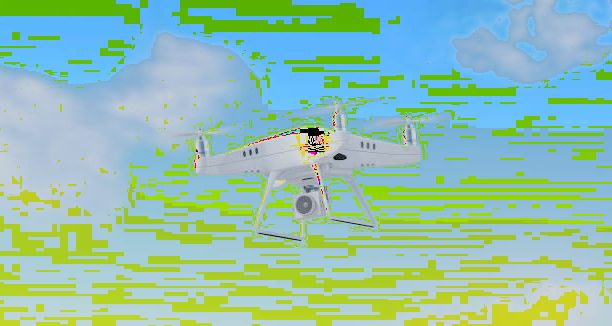Drone: (164, 94, 443, 250)
